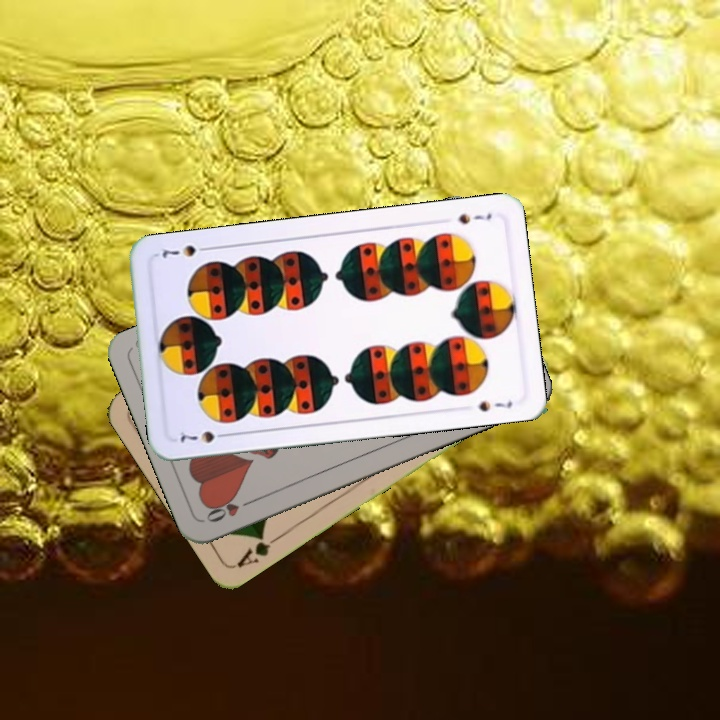GA: (232, 528, 285, 571)
HO: (202, 494, 258, 525)
S7: (176, 426, 232, 446), (454, 209, 494, 227)
